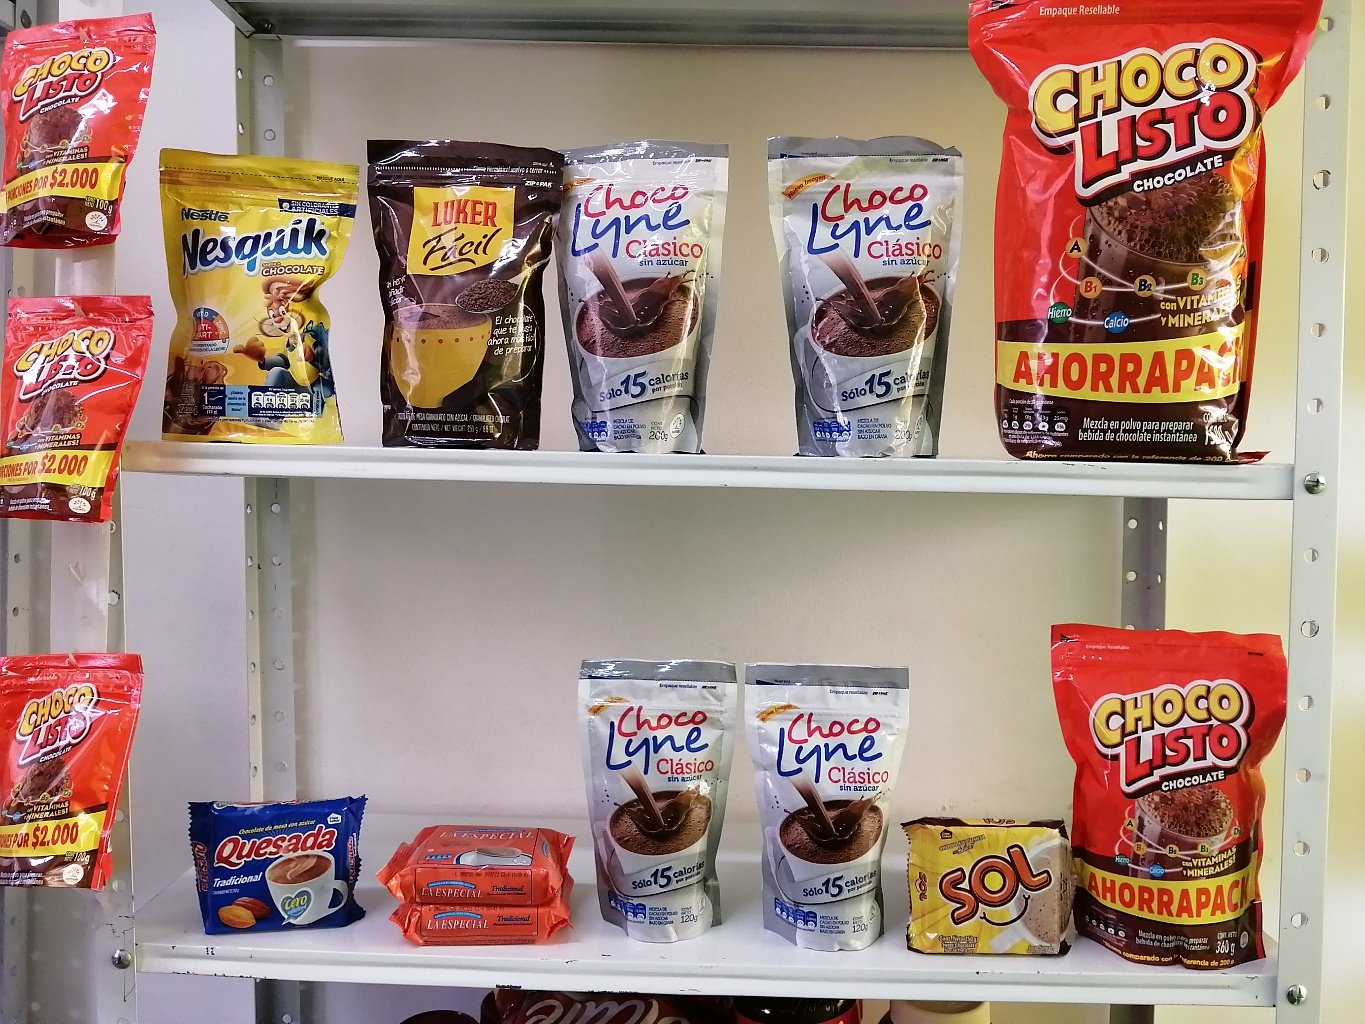COL0170103DYP1,500: (972, 3, 1316, 468)
COL0170103DYP36000: (1047, 611, 1295, 975)
COL0170303DYP20000: (156, 140, 355, 440)
